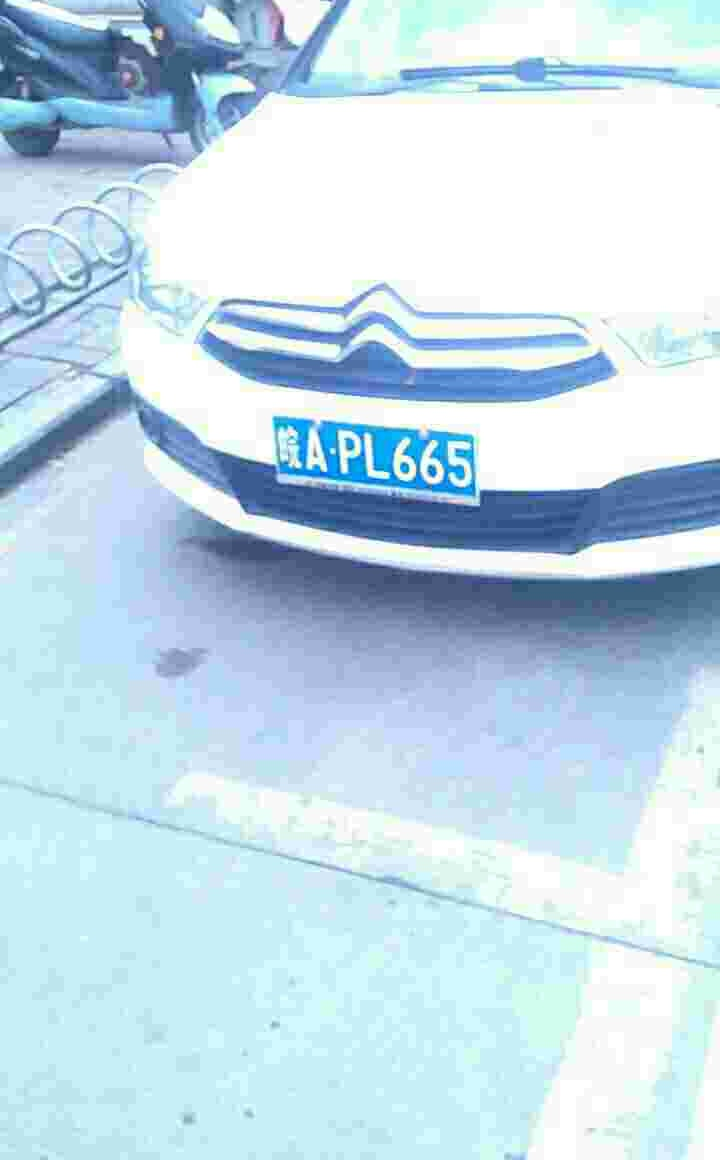license_plate: (264, 413, 492, 504)
